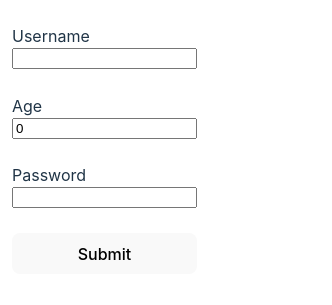
Test: SubscribeForm › should show password error if no password is provided
The image size is (332, 305).
Type "fthomasvp" into the field labelled "Username". click: (104, 58)
box: [12,48,197,69]
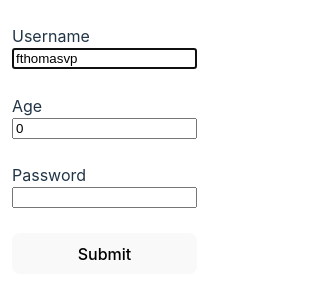
Type "72" into the number field labelled "Age". click: (104, 128)
box: [12,118,197,138]
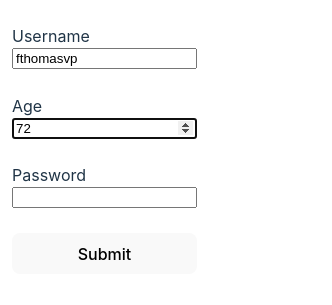
Click the button "Submit". click: (104, 254)
box: [12,233,197,274]
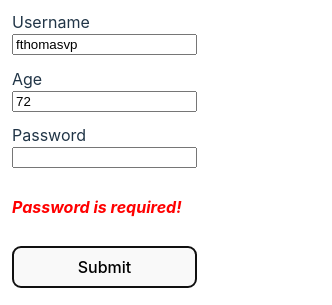
Check: the text "Password is required!" is shown, box [12,195,197,219]
